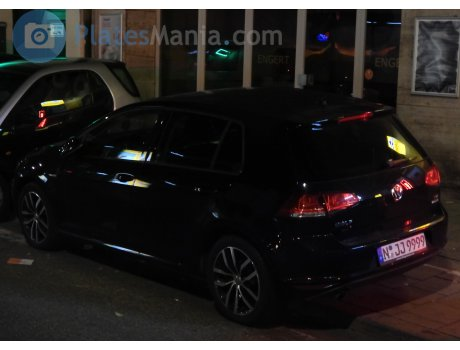License Plates: (390, 234, 424, 258)
